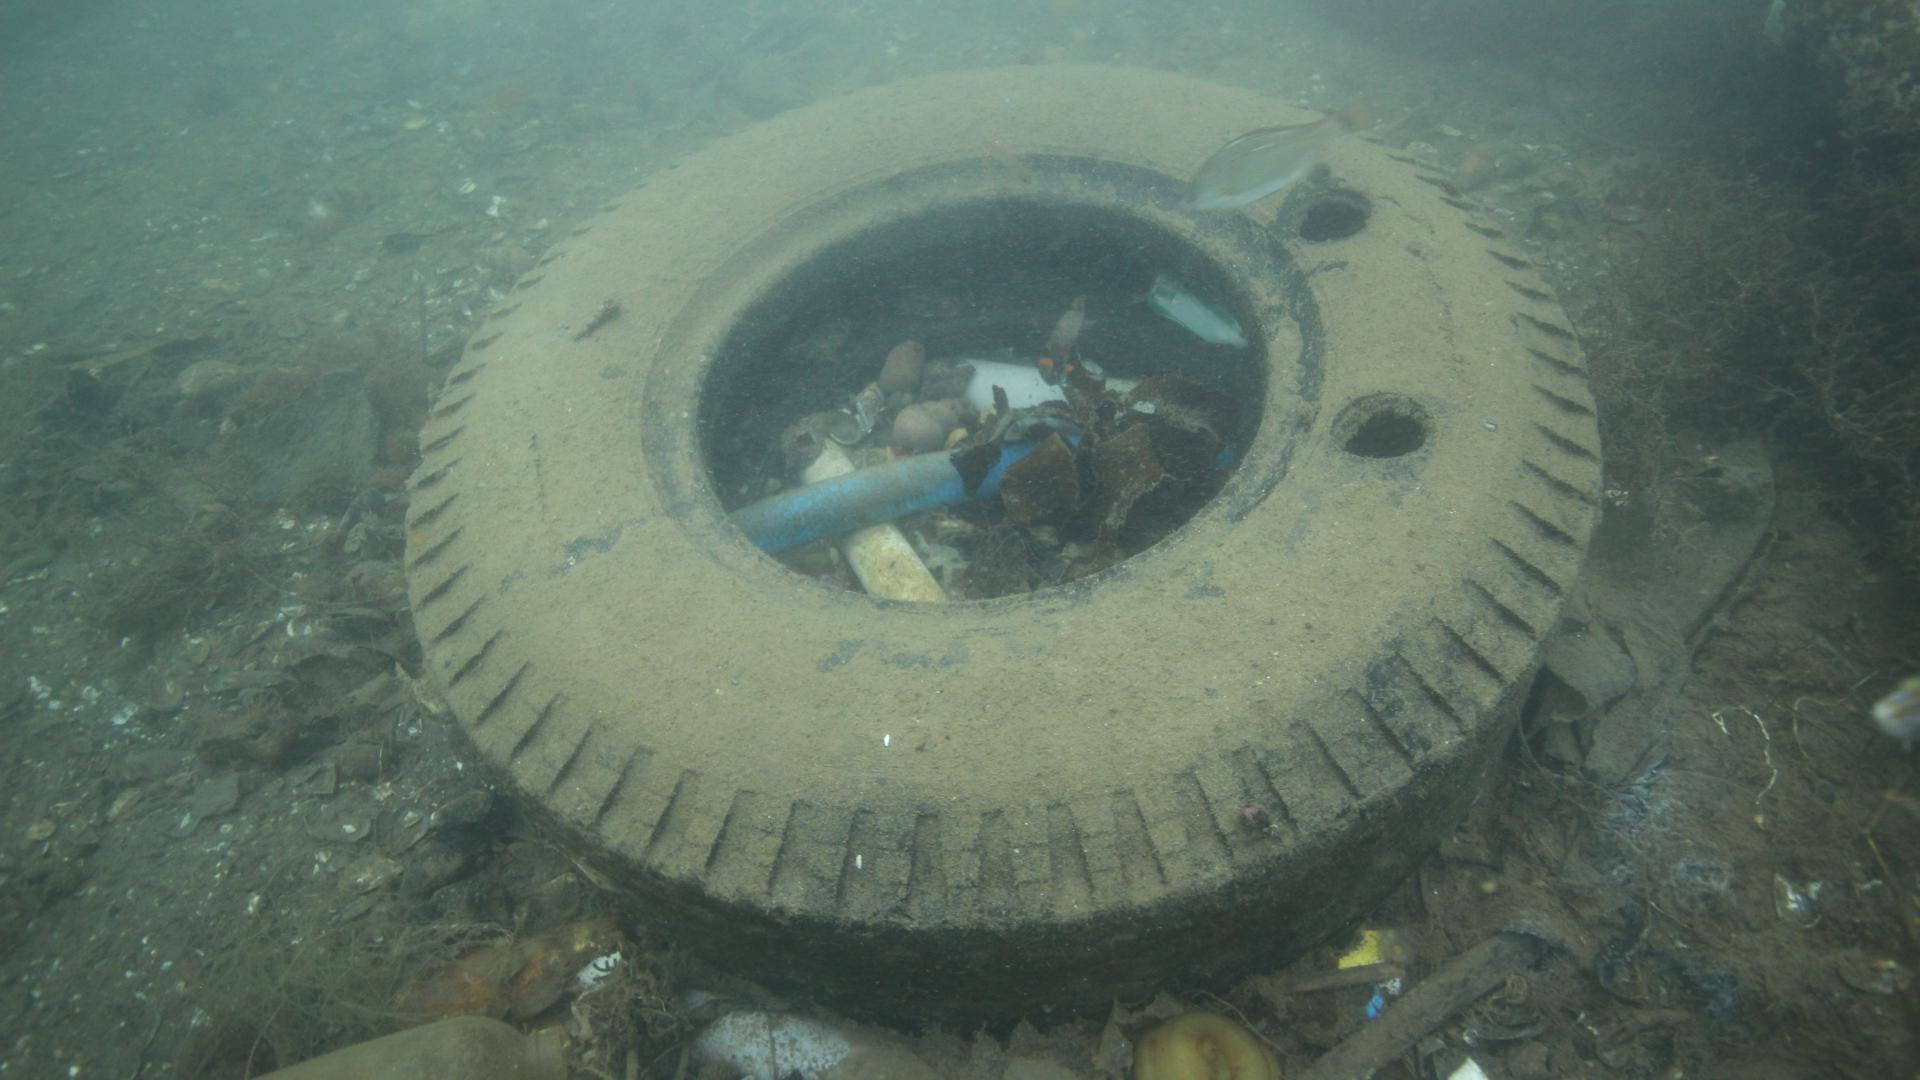tire: (404, 61, 1604, 1040)
